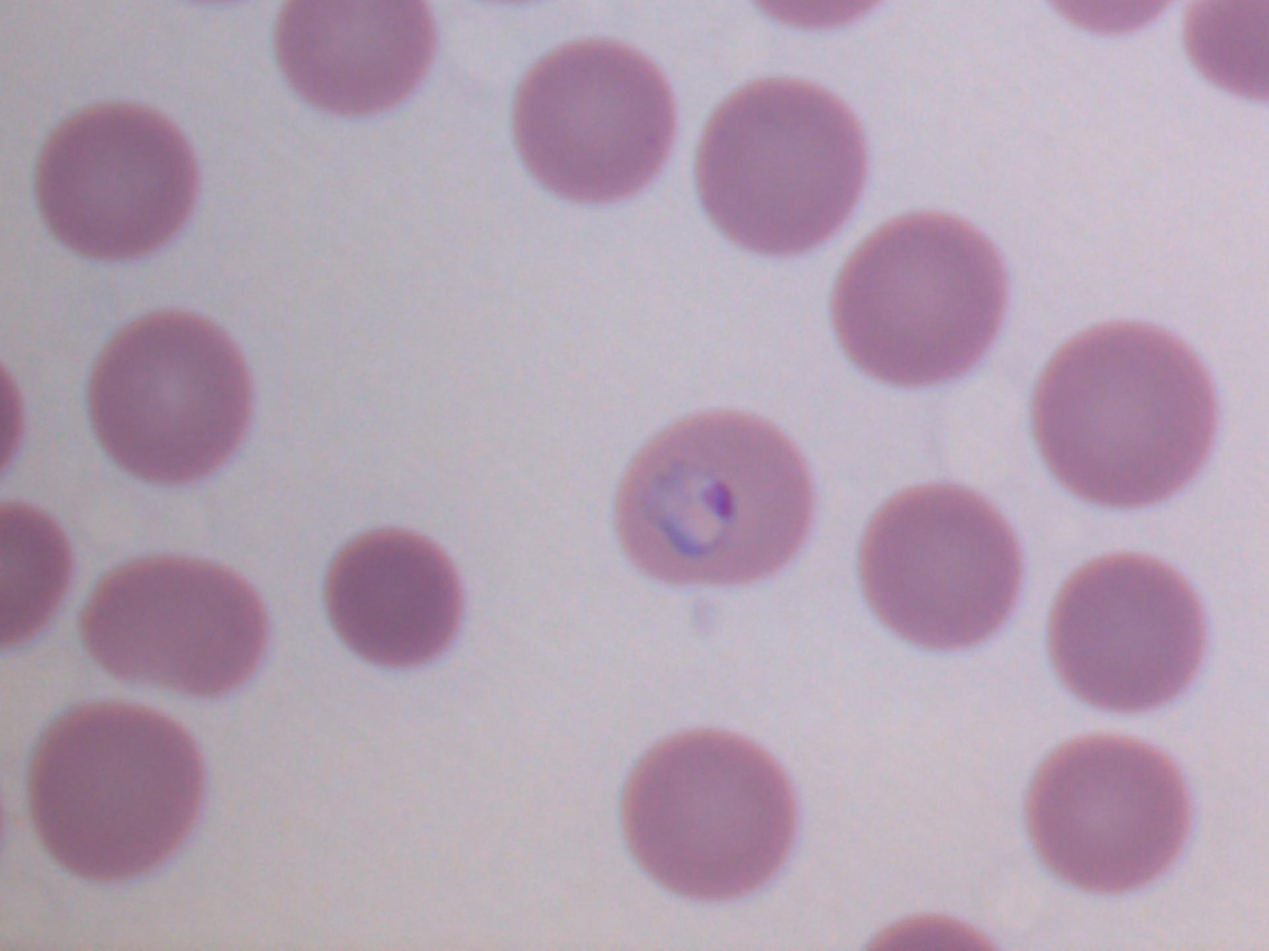Infected: (614, 407, 818, 591)
Uninfected: (1038, 320, 1219, 508), (833, 206, 1013, 390), (30, 702, 209, 880), (696, 78, 861, 259), (622, 731, 796, 898), (87, 311, 255, 479), (83, 554, 269, 698), (859, 486, 1024, 647), (512, 40, 673, 200), (1049, 551, 1206, 714), (38, 100, 200, 254), (1029, 737, 1189, 891), (325, 528, 467, 667), (278, 1, 434, 113)
